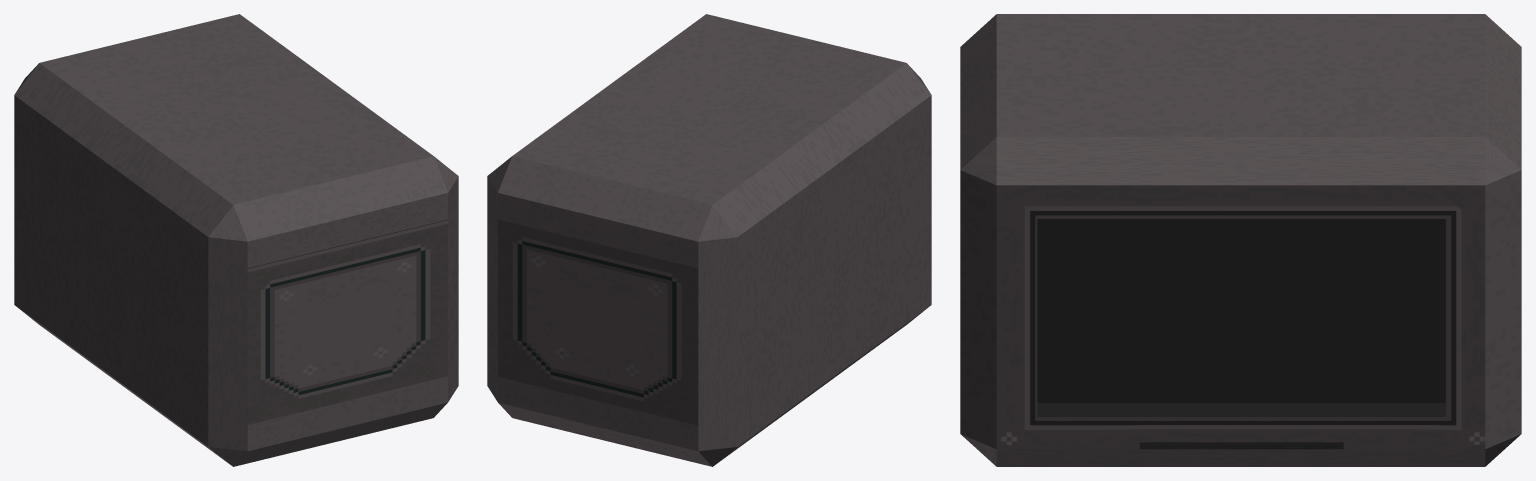
The model's file is Head.fbx.
3 views of the same model, side by side, from view 1: azimuth 30°, elevation 25°; view 2: azimuth 150°, elevation 25°; view 3: azimuth 270°, elevation 25° (orthographic). The views are drawn at different scales.
Visible parts, largest first — view 1: pCube1; view 2: pCube1; view 3: pCube1.
Boxes of the visible parts, x1,y1,x2,y2 form: pCube1: (14, 14, 458, 466); pCube1: (487, 14, 931, 466); pCube1: (960, 14, 1521, 466).
Size of the model in its own units: 48.53 by 48.53 by 74.84.
